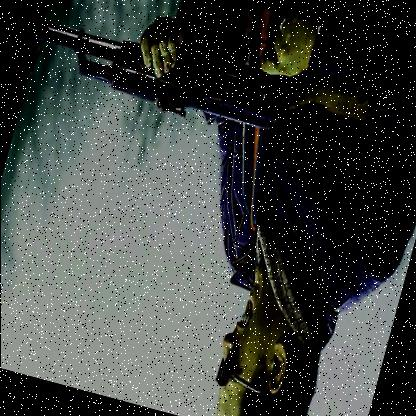rifle: (26, 0, 396, 175)
